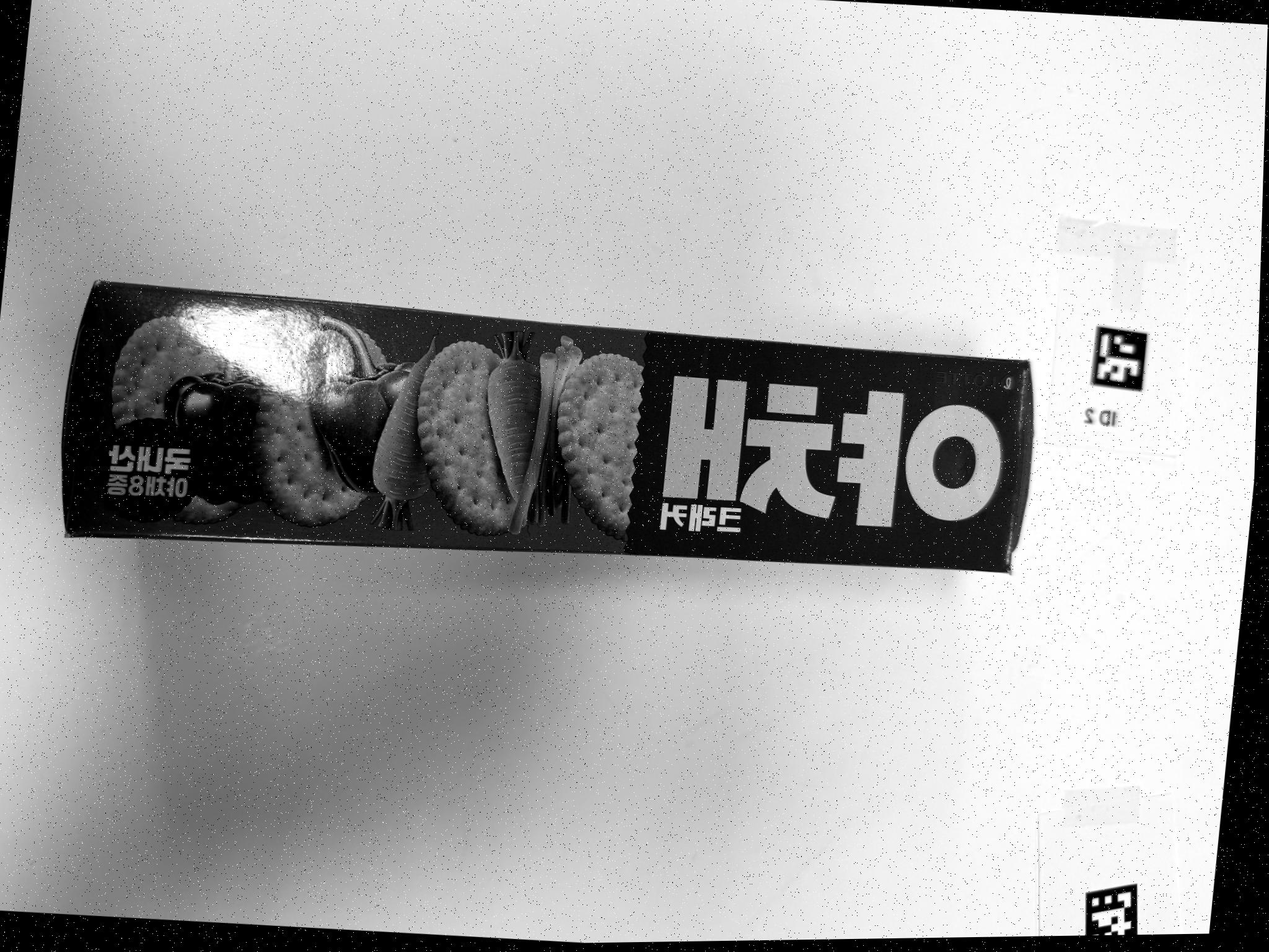cracker_vege: (62, 283, 1035, 571)
